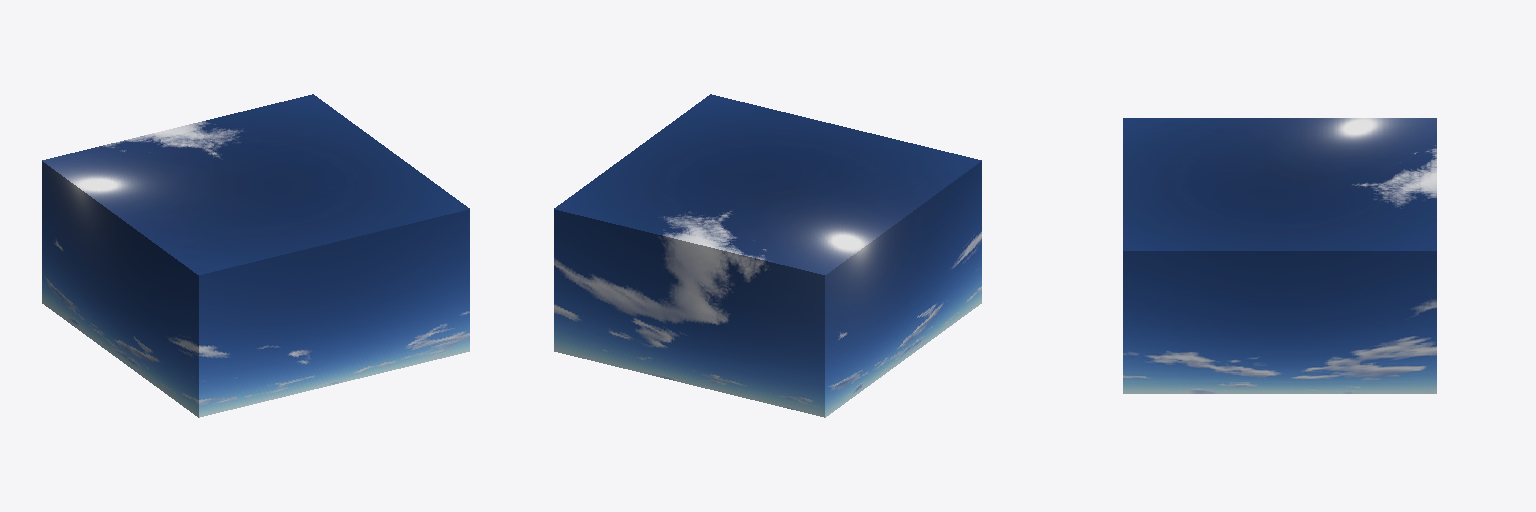
3 renders of one model, left to right at view 1: azimuth 30°, elevation 25°; view 2: azimuth 150°, elevation 25°; view 3: azimuth 270°, elevation 25°, orthographic.
Visible parts, largest first — view 1: cube1; view 2: cube1; view 3: cube1.
Boxes of the visible parts, x1=… form: cube1: x1=42, y1=94, x2=469, y2=417; cube1: x1=554, y1=94, x2=981, y2=417; cube1: x1=1123, y1=118, x2=1436, y2=393.
Size of the model in its own units: 4 by 2 by 4.
1 materials, 1 textured.